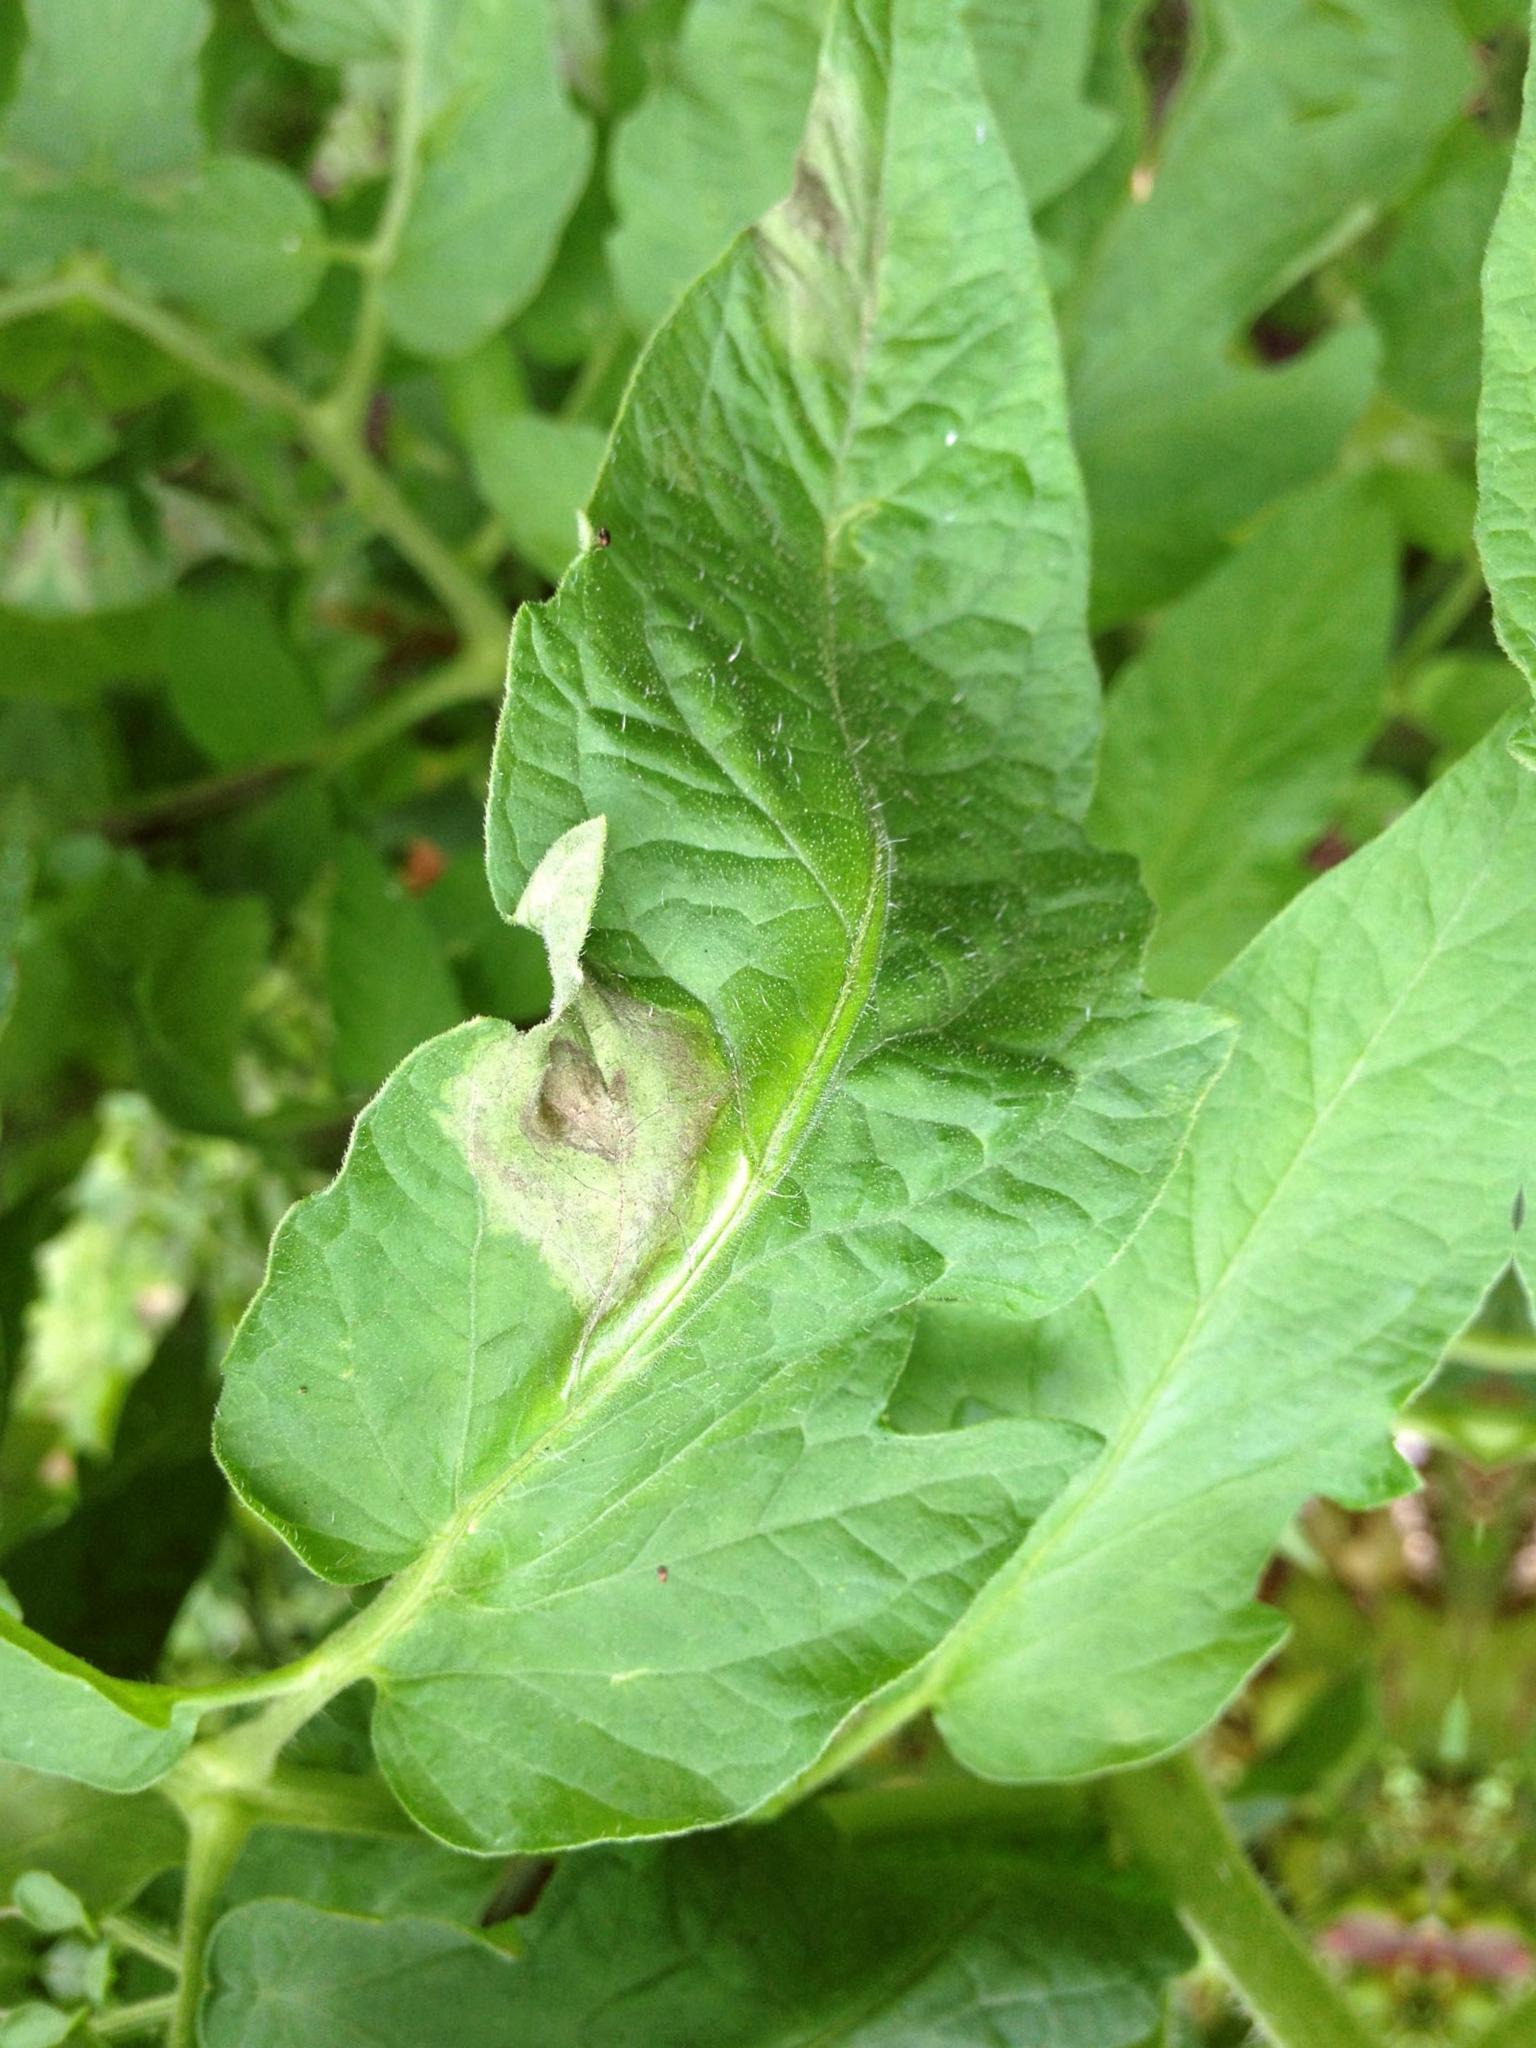Tomato leaf late blight: (132, 0, 1325, 1930)
